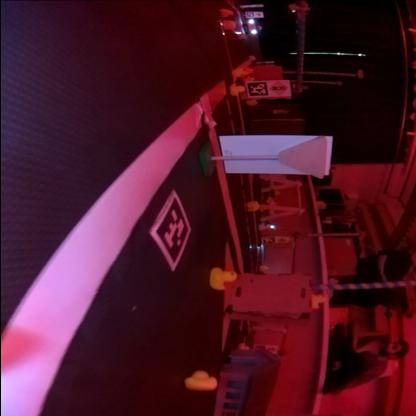Duckie: (187, 371, 219, 391), (208, 268, 235, 290), (310, 294, 328, 310), (247, 200, 260, 212)
QR code: (150, 196, 193, 270), (248, 84, 267, 97)
Signal sign: (270, 82, 288, 94)
